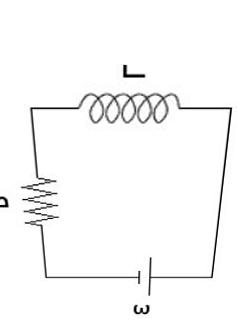Battery: (113, 245, 169, 295)
